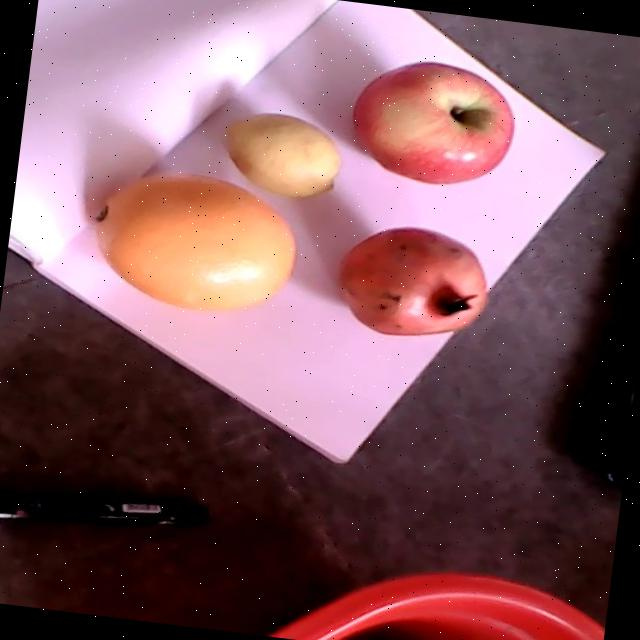apple: (352, 62, 514, 184)
lemon: (222, 113, 338, 197)
orange: (92, 172, 296, 311)
pomegranate: (338, 226, 486, 335)
